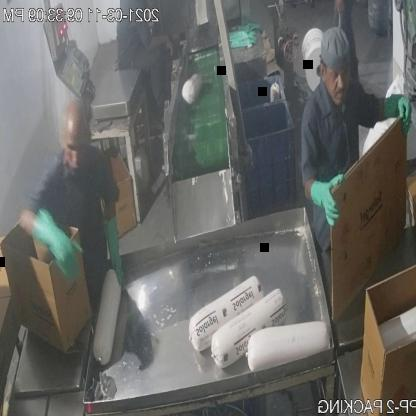glove: (28, 202, 90, 280), (102, 210, 132, 292)
